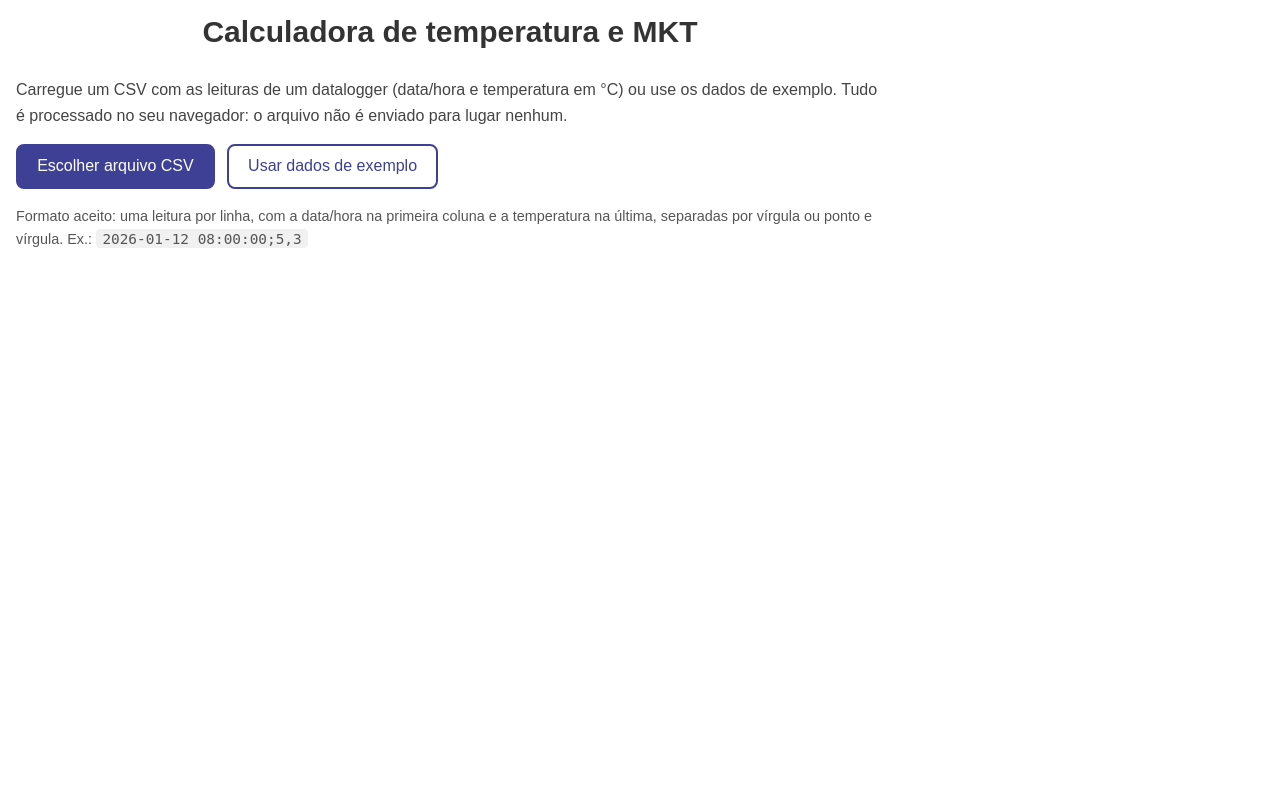
Scenario: Calculadora › limites invertidos geram aviso
Click the button "Usar dados de exemplo" at x=333, y=166, box [227,144,438,189]
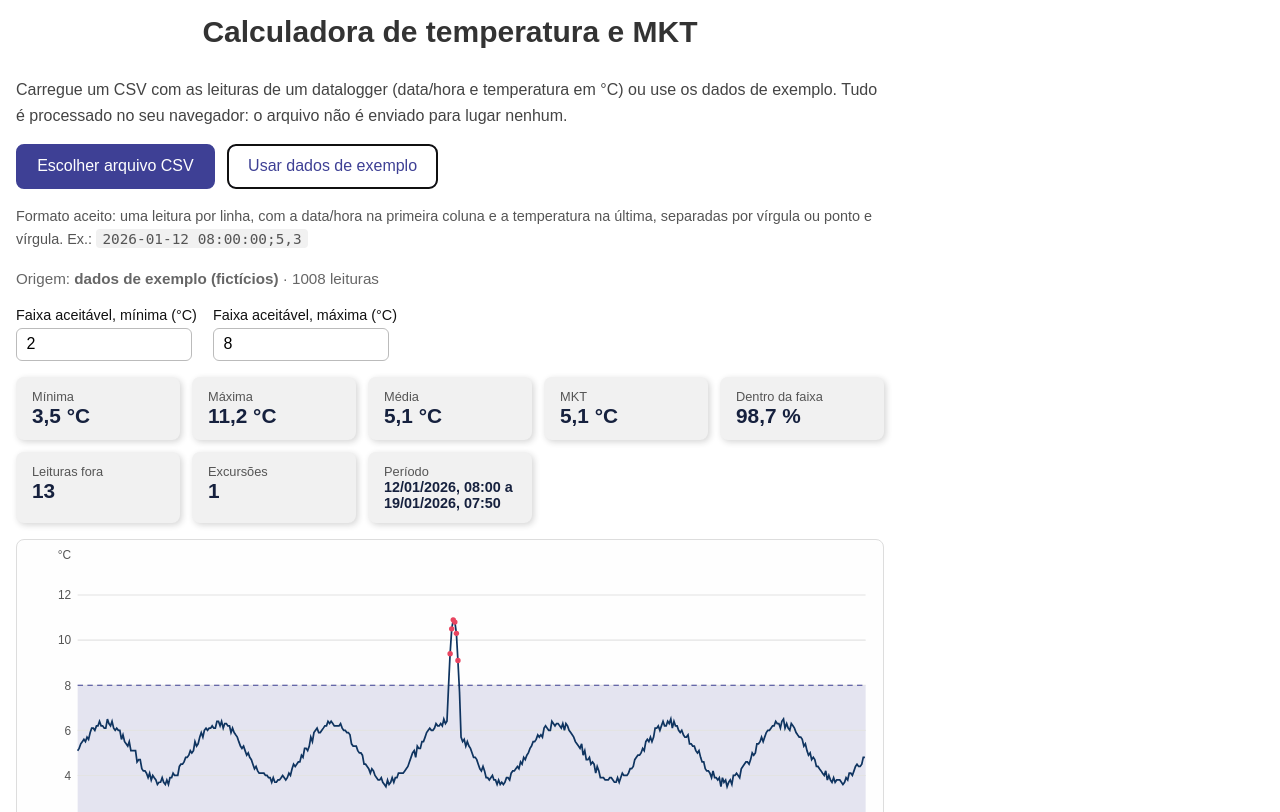
Replace the text in the field labelled "Faixa aceitável, mínima (°C)" with "9" at x=104, y=344, box [16,328,192,361]
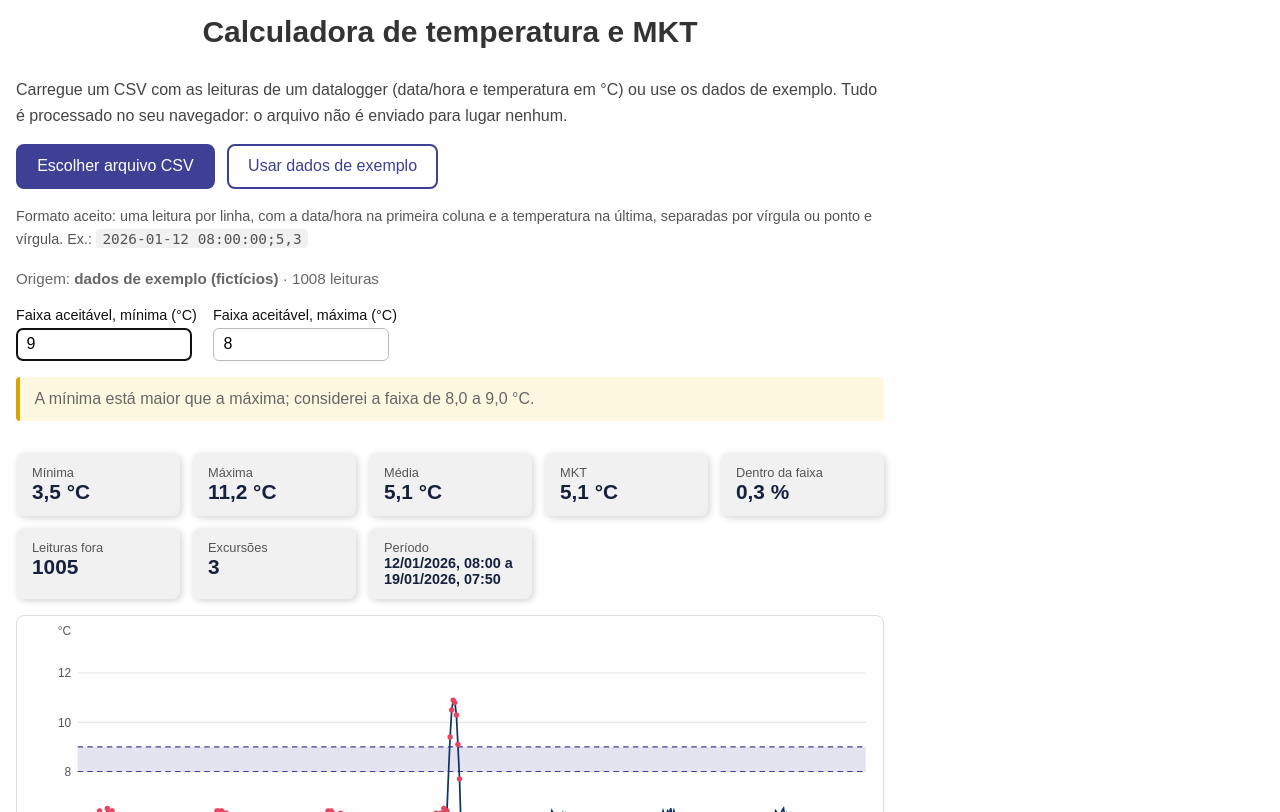
Check: the text "A mínima está maior que a máxima" is shown, box [34,390,445,407]
